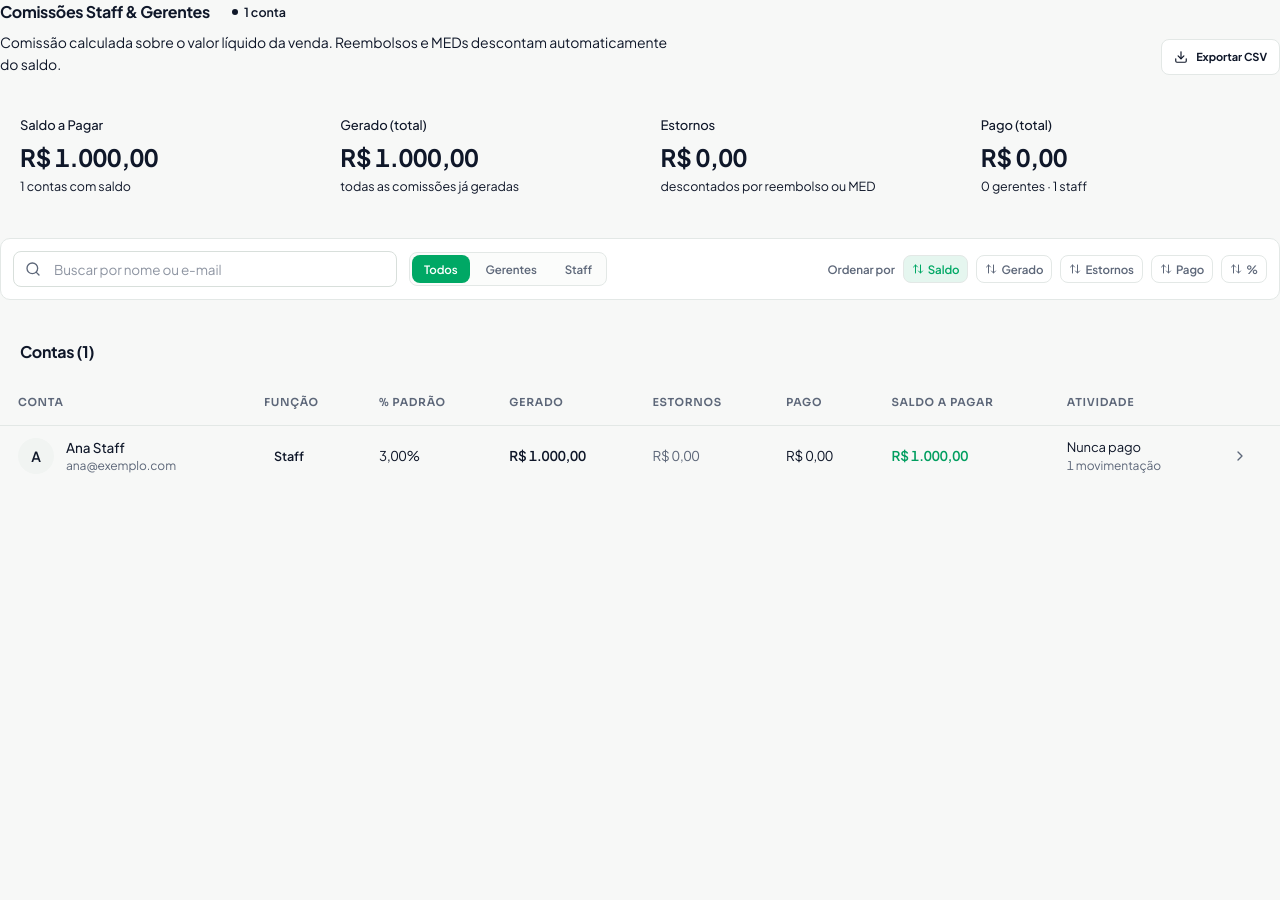
Test: Painel de comissão do staff › clique duplo em 'Registrar pagamento' cria um pagamento só
Later steps or results of the test are not shown.
Click the text "Ana Staff" at (95, 447), box [66,439,125,456]
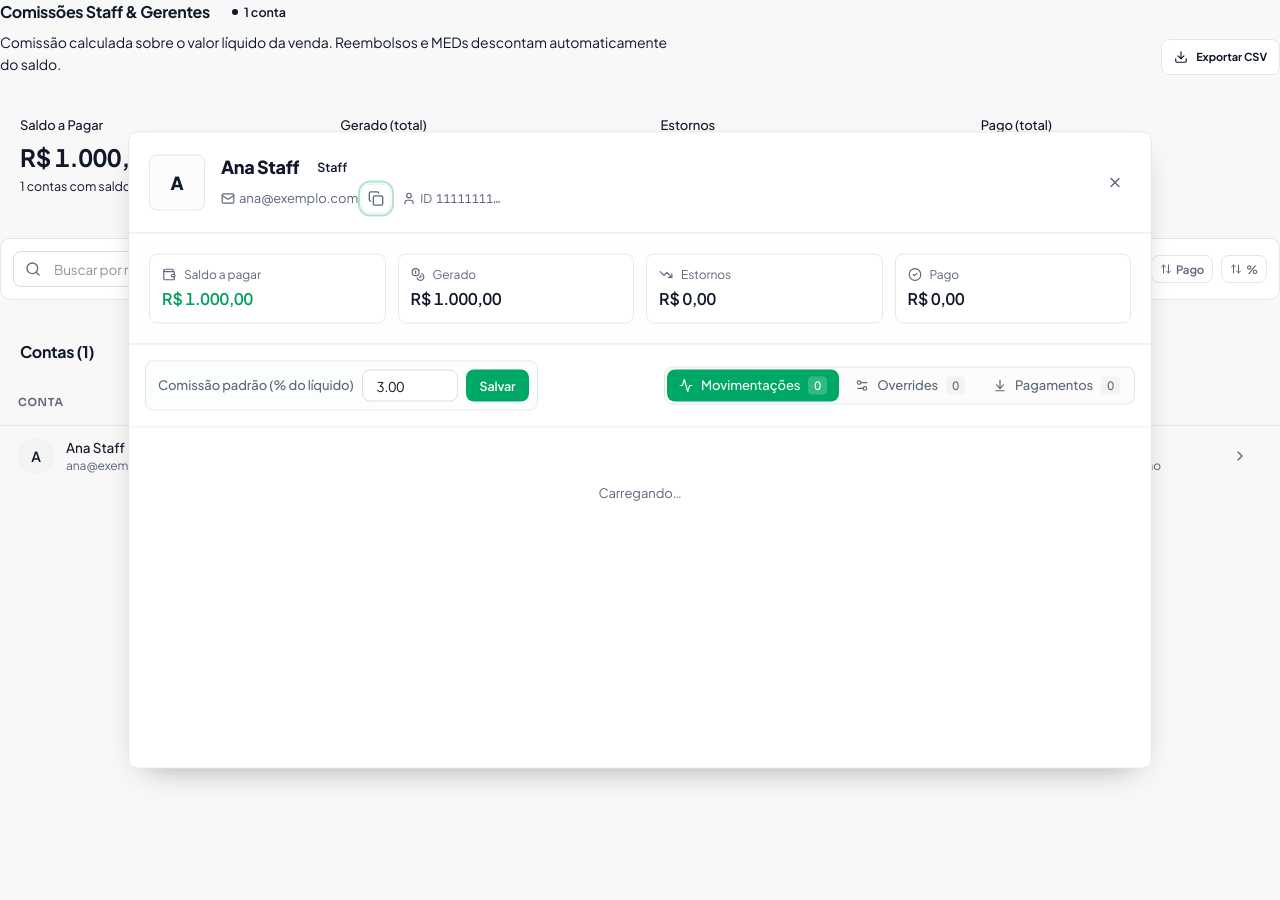
Click the button "Pagamentos 0" at (1056, 386), box [981,370,1132,402]
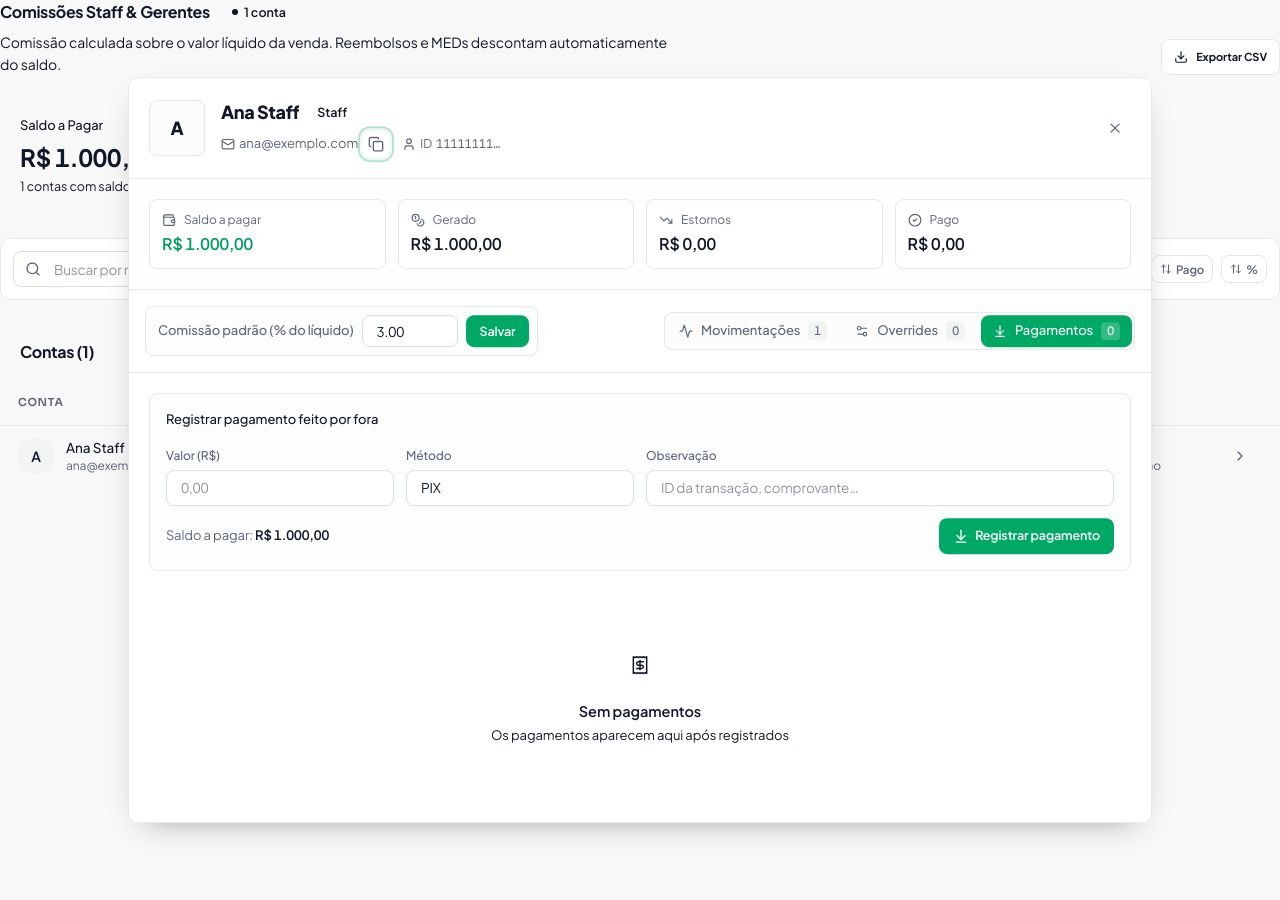
Type "100" into the number field labelled "Valor (R$)" at (280, 488), box [166,470,394,506]
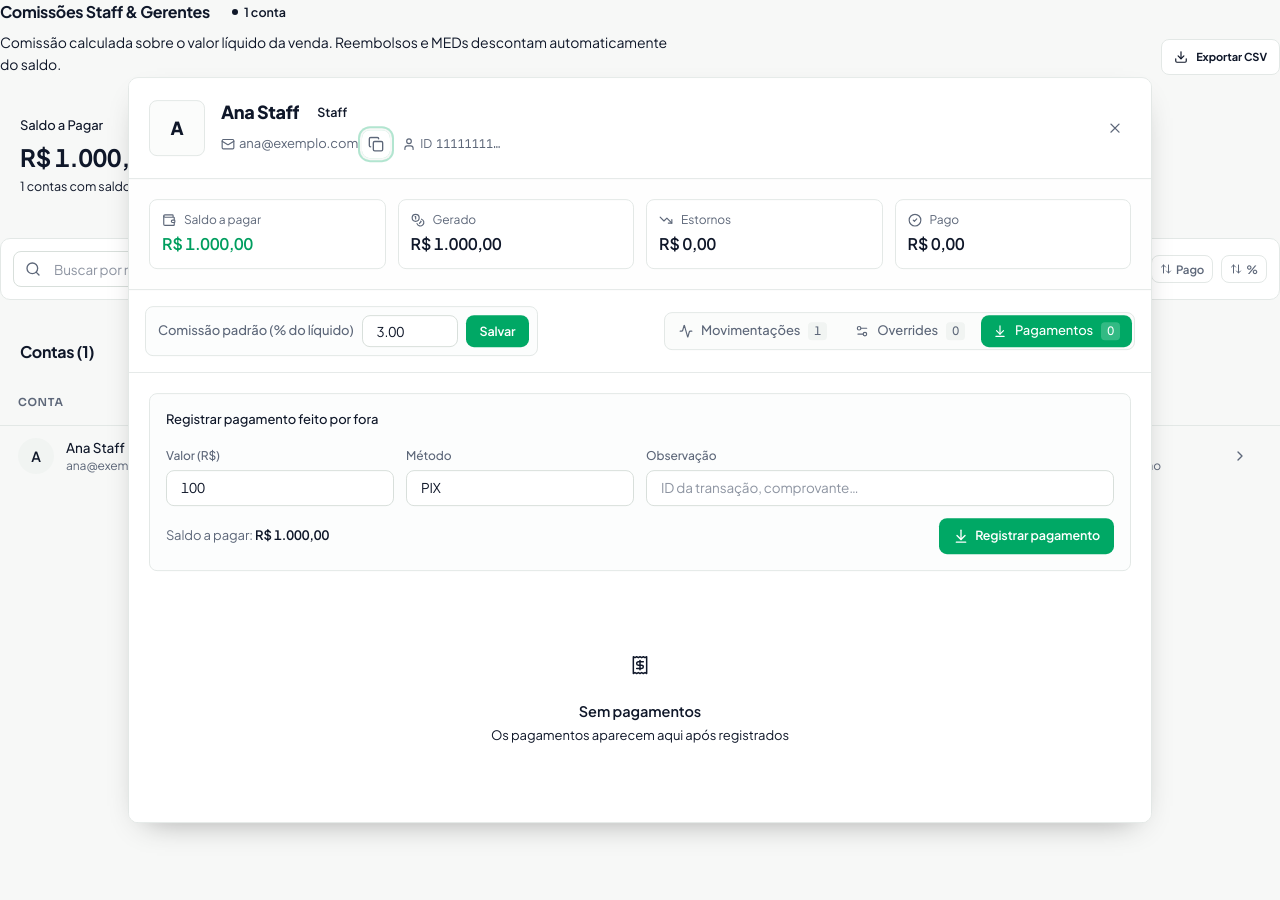
Click the button "Registrar pagamento" at (1027, 536), box [939,518,1114,554]
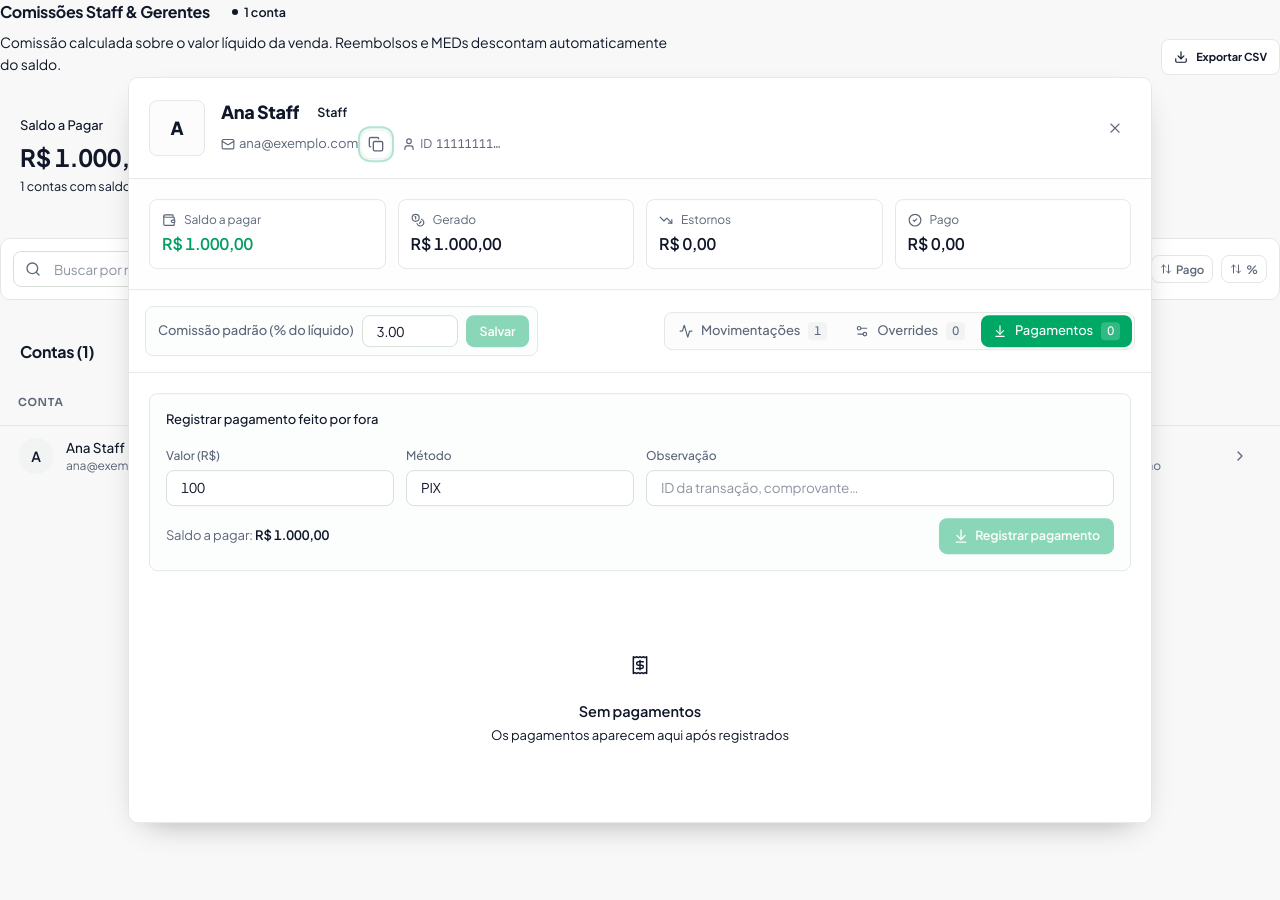
Click the button "Registrar pagamento" at (1027, 536), box [939,518,1114,554]
Click the button "Registrar pagamento" at (1027, 536), box [939,518,1114,554]
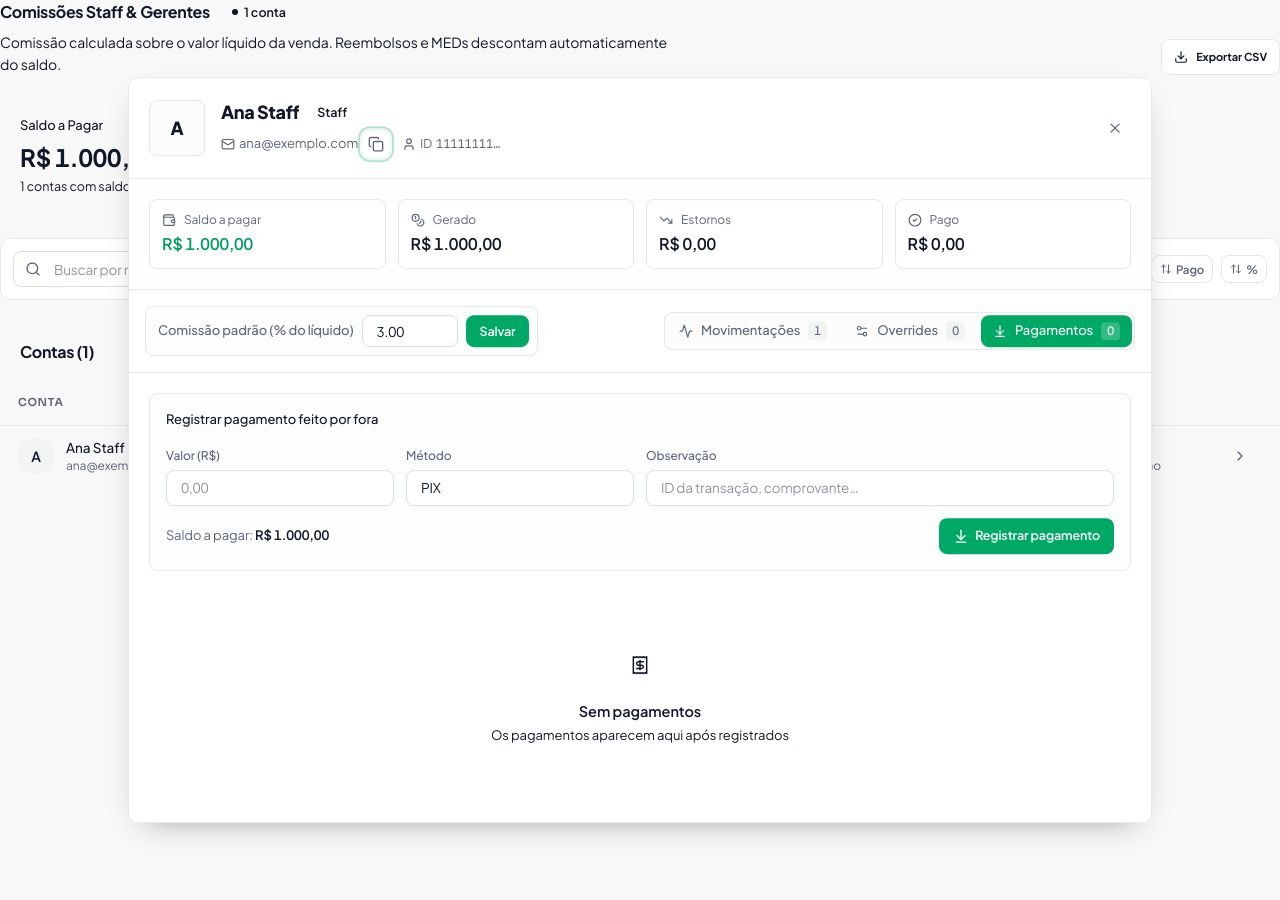
Check: the button "Registrar pagamento" is enabled, box [939,518,1114,554]
